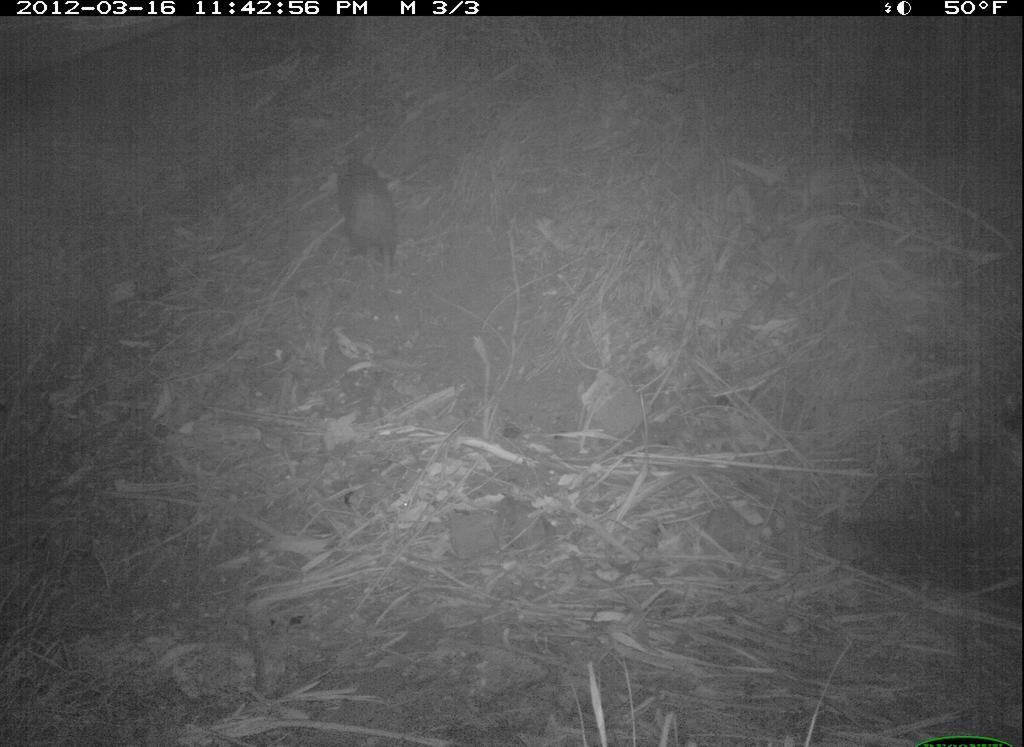opossum: (322, 140, 431, 293)
